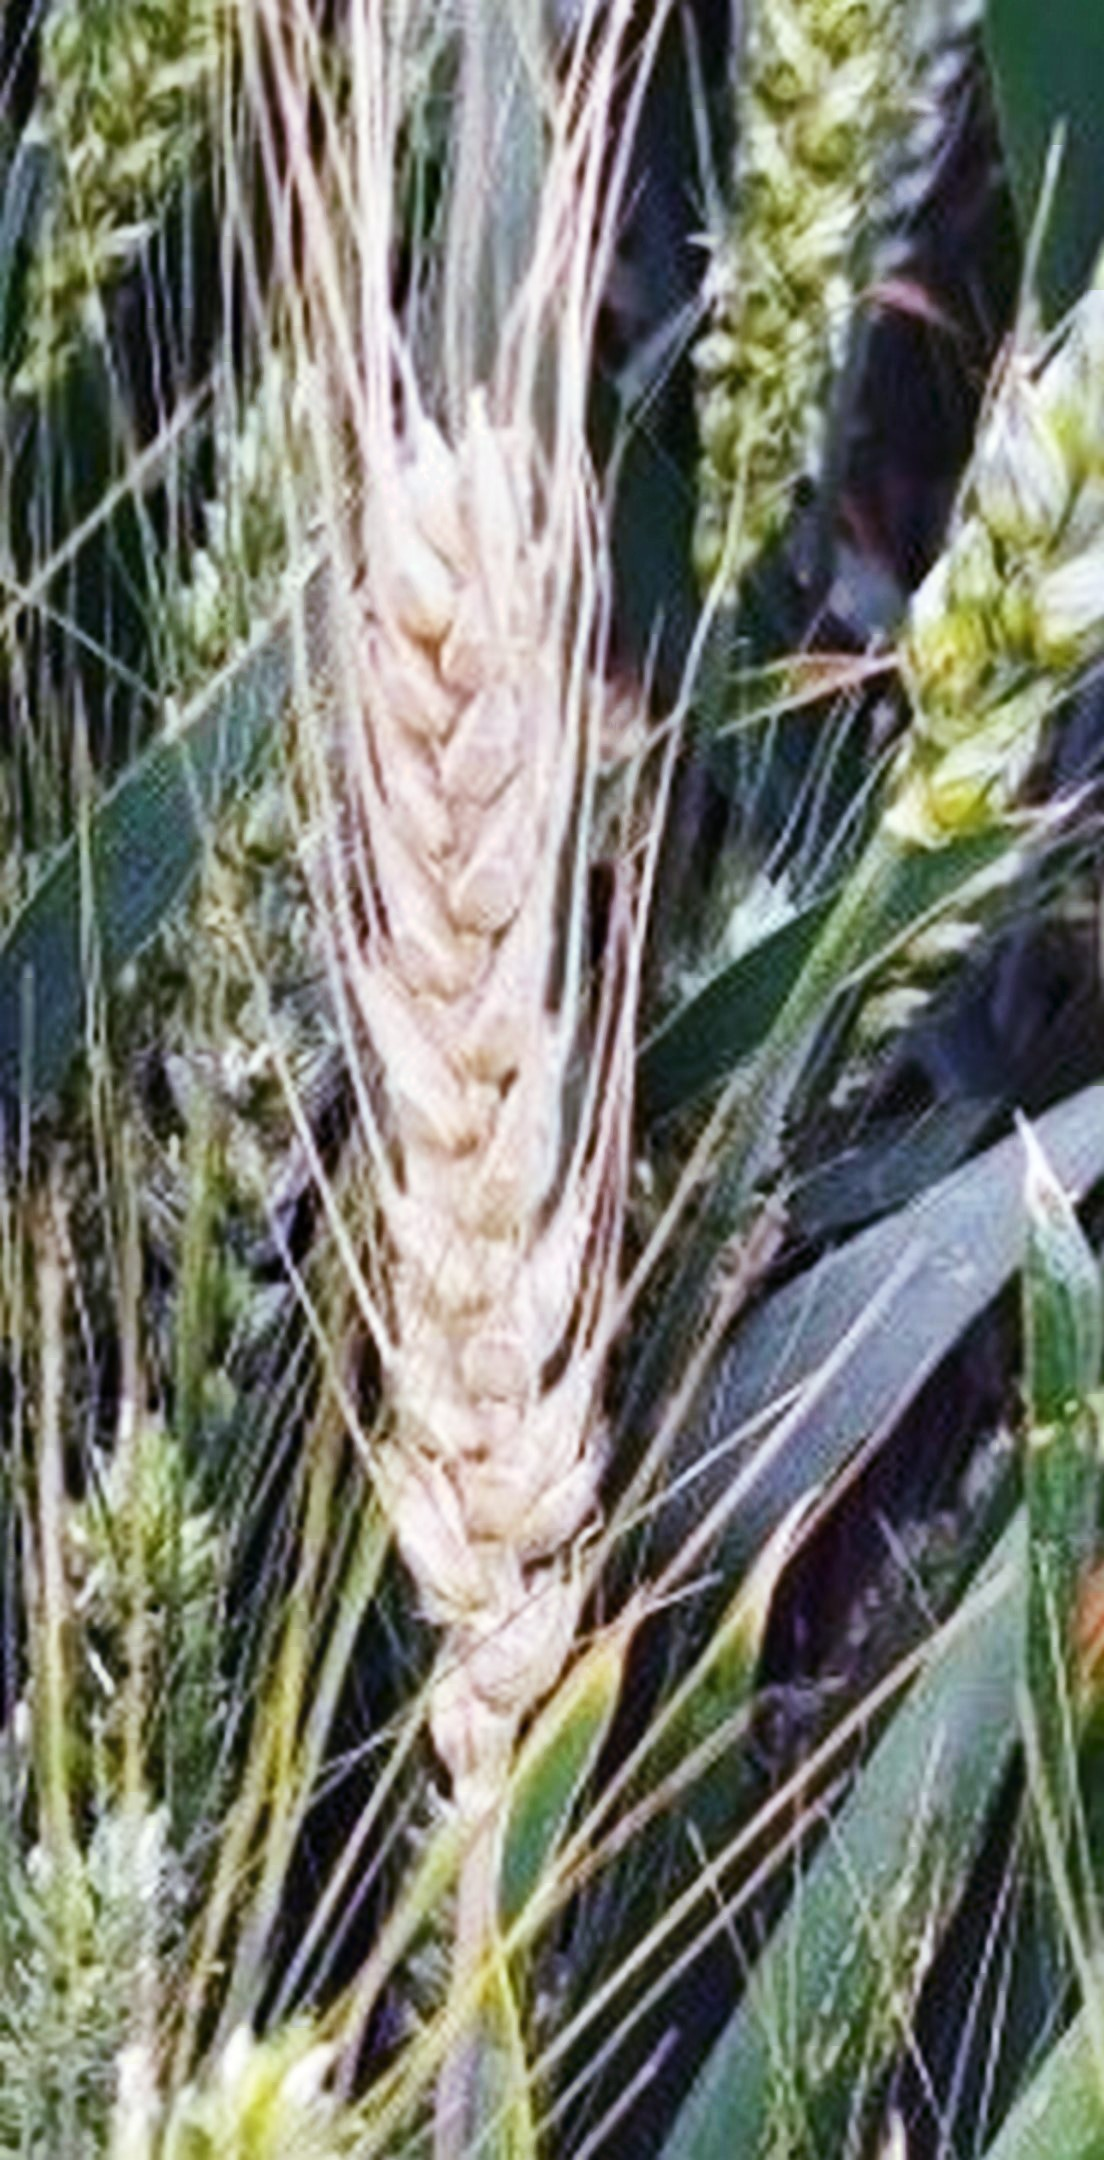Wheat scab: (272, 424, 653, 1722)
